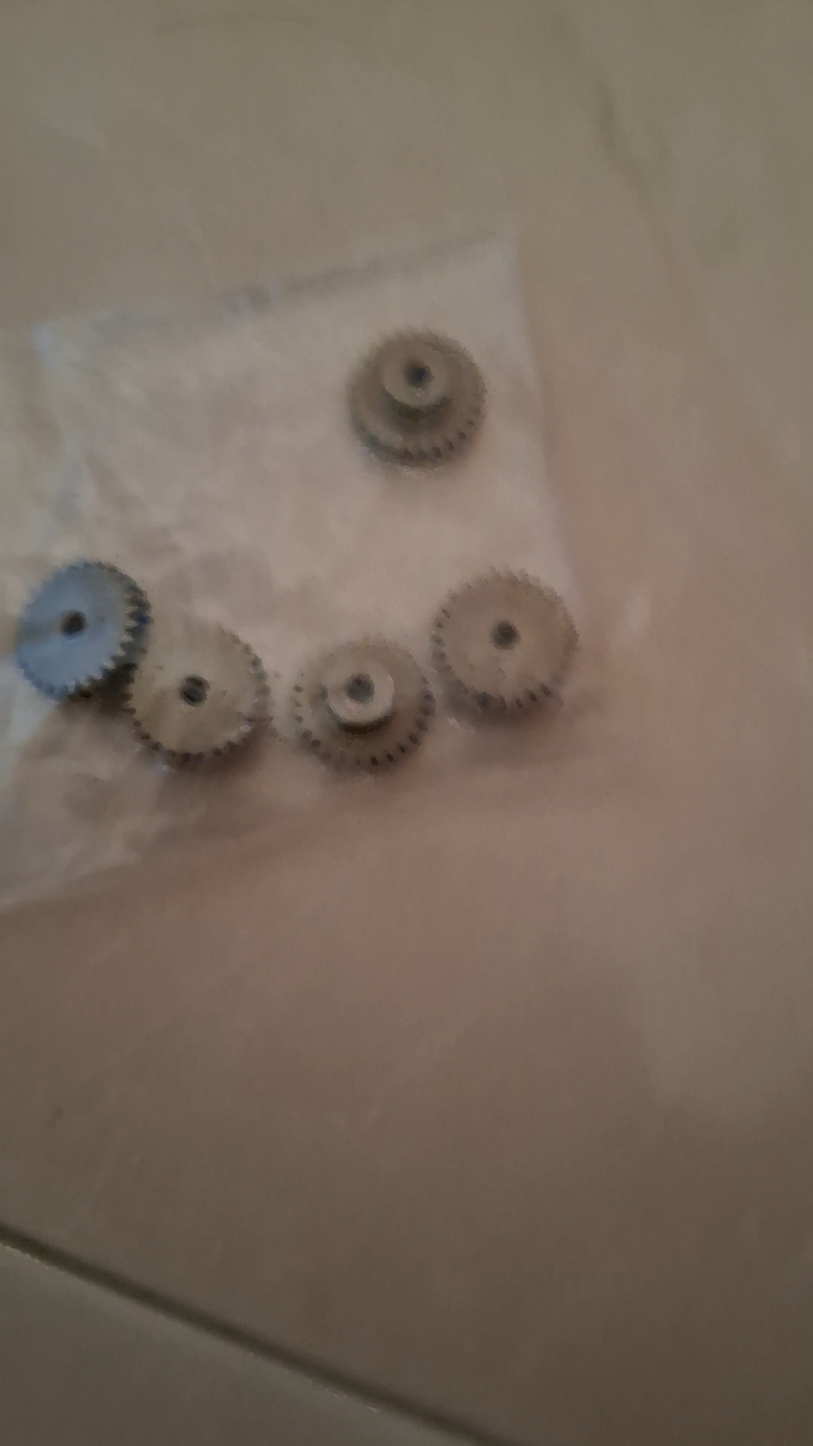spur gear: (123, 613, 268, 763), (432, 573, 577, 711), (15, 561, 149, 699), (292, 640, 434, 769), (350, 332, 485, 465)
